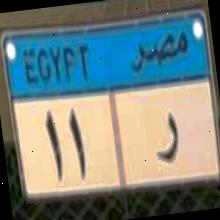1: (41, 104, 67, 182), (64, 102, 90, 176)
raa: (148, 104, 183, 172)
